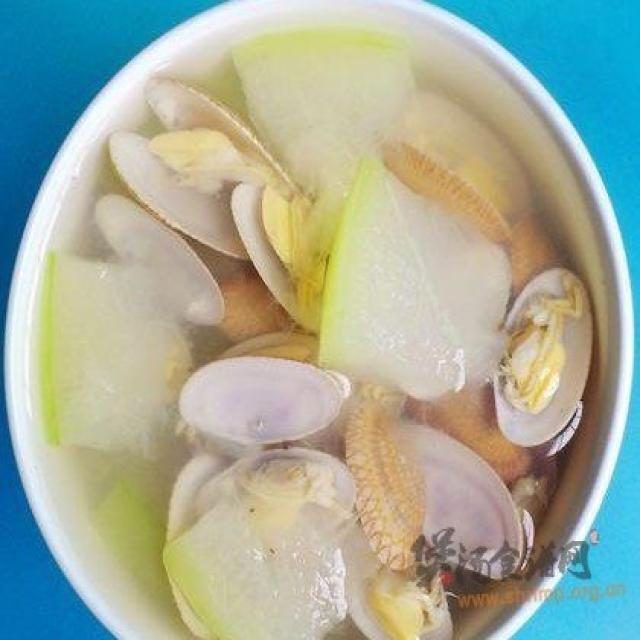汤锅炖物: (32, 21, 581, 628)
